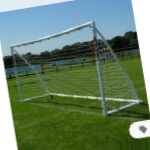goals: (9, 18, 141, 118)
